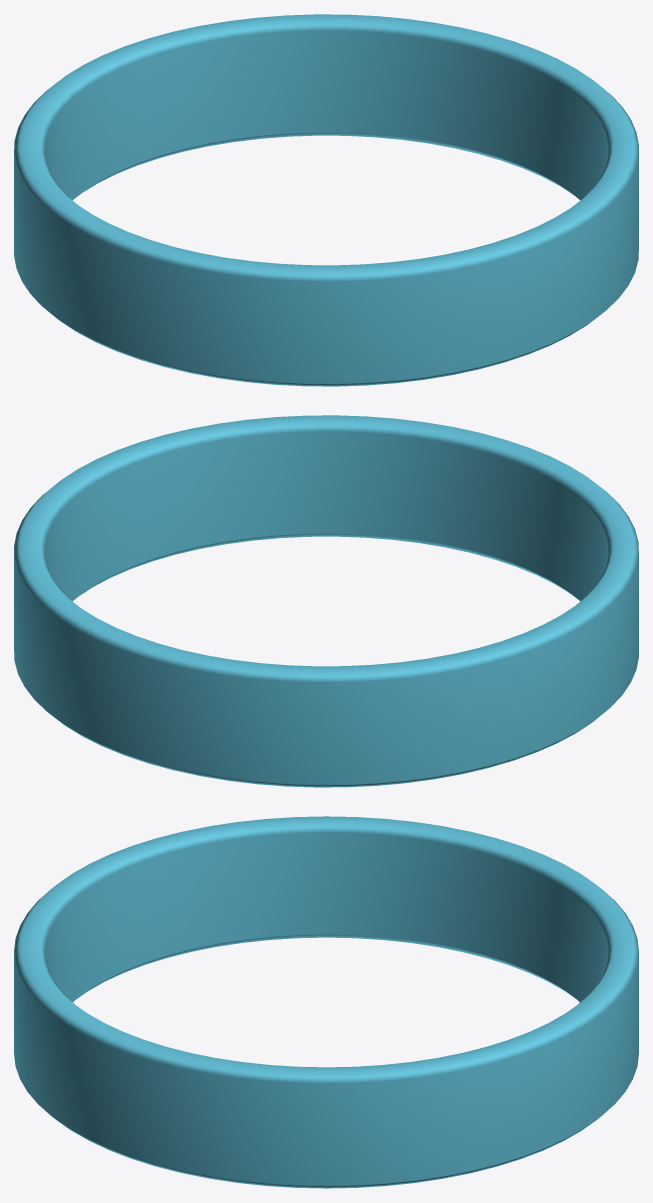
3 views of the same model, one above another, from view 1: azimuth 30°, elevation 25°; view 2: azimuth 150°, elevation 25°; view 3: azimuth 270°, elevation 25° (orthographic).
Parts seen in each view (by area): view 1: seal_body; view 2: seal_body; view 3: seal_body.
Part boxes in pixels (bbox=[...]): seal_body: bbox=[14, 14, 638, 386]; seal_body: bbox=[14, 415, 638, 787]; seal_body: bbox=[14, 816, 638, 1188].
Bounding box in the file's own units: 0.0635 × 0.0127 × 0.0635.
